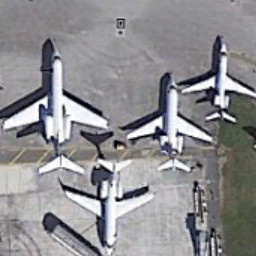Airplane: (1, 42, 113, 176), (62, 147, 157, 255), (125, 70, 215, 183), (180, 30, 256, 130)
